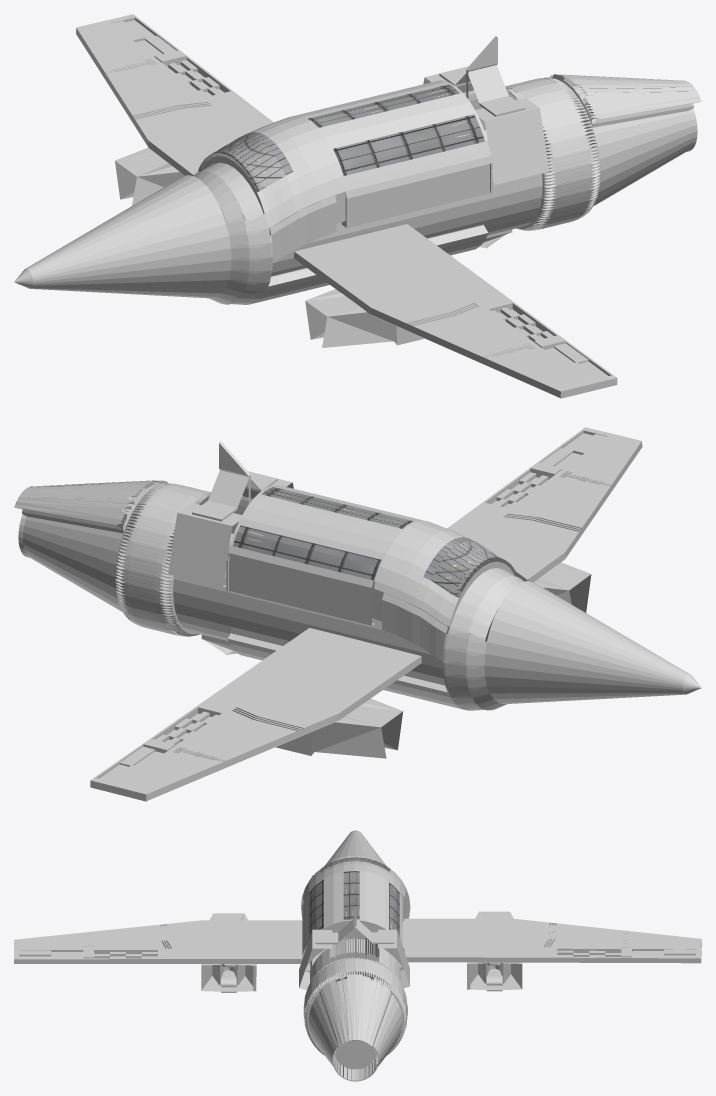
File: samolot.fbx
The picture shows the model from 3 angles, top to bottom: view 1: azimuth 30°, elevation 25°; view 2: azimuth 150°, elevation 25°; view 3: azimuth 270°, elevation 25°; orthographic projection. The views are drawn at different scales.
Visible parts, largest first — view 1: Body, Wing 1, Wing 2, Body_Glass, Engine 2, Engine 1; view 2: Body, Wing 2, Wing 1, Body_Glass, Engine 1, Engine 2; view 3: Body, Wing 2, Wing 1, Body_Glass, Engine 1, Engine 2.
Boxes of the visible parts, x1=… form: Body: x1=14, y1=36, x2=701, y2=304; Wing 1: x1=294, y1=224, x2=617, y2=398; Wing 2: x1=76, y1=14, x2=273, y2=175; Body_Glass: x1=212, y1=84, x2=484, y2=192; Engine 2: x1=305, y1=289, x2=424, y2=347; Engine 1: x1=115, y1=147, x2=184, y2=205; Body: x1=14, y1=441, x2=701, y2=710; Wing 2: x1=90, y1=628, x2=421, y2=801; Wing 1: x1=447, y1=427, x2=642, y2=581; Body_Glass: x1=232, y1=487, x2=504, y2=597; Engine 1: x1=276, y1=698, x2=403, y2=758; Engine 2: x1=534, y1=562, x2=591, y2=612; Body: x1=299, y1=830, x2=410, y2=1081; Wing 2: x1=403, y1=918, x2=701, y2=963; Wing 1: x1=14, y1=920, x2=302, y2=963; Body_Glass: x1=309, y1=857, x2=402, y2=939; Engine 1: x1=467, y1=911, x2=522, y2=991; Engine 2: x1=201, y1=913, x2=256, y2=992.
Size of the model in its own units: 1051 by 305 by 1320.
2 materials, 1 textured.
